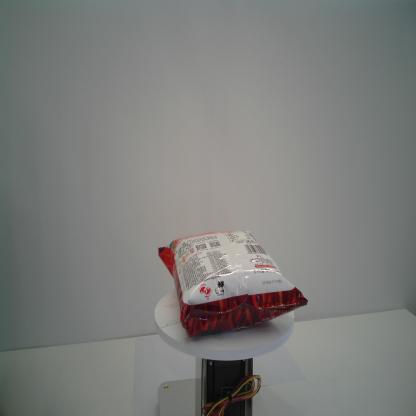Puffed Food: (158, 229, 308, 339)
